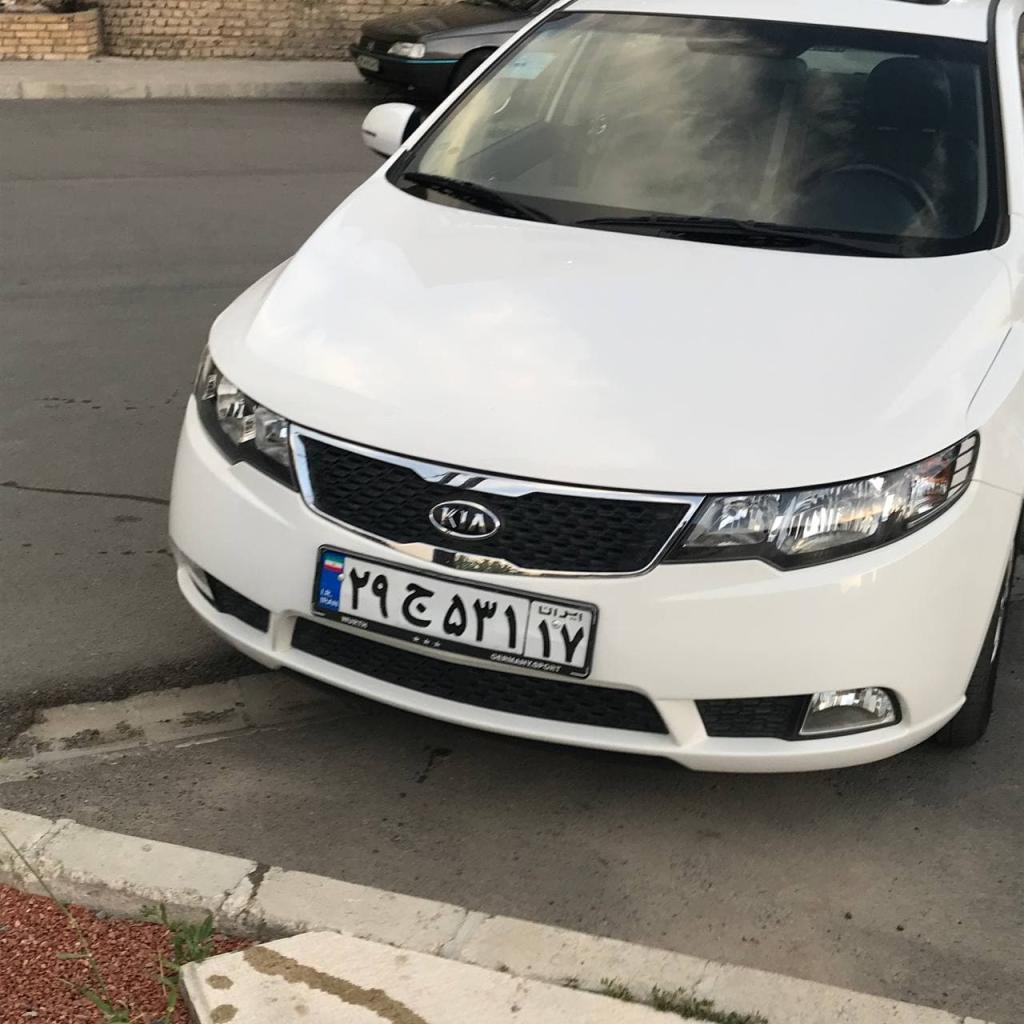Plates: (317, 551, 592, 671)
